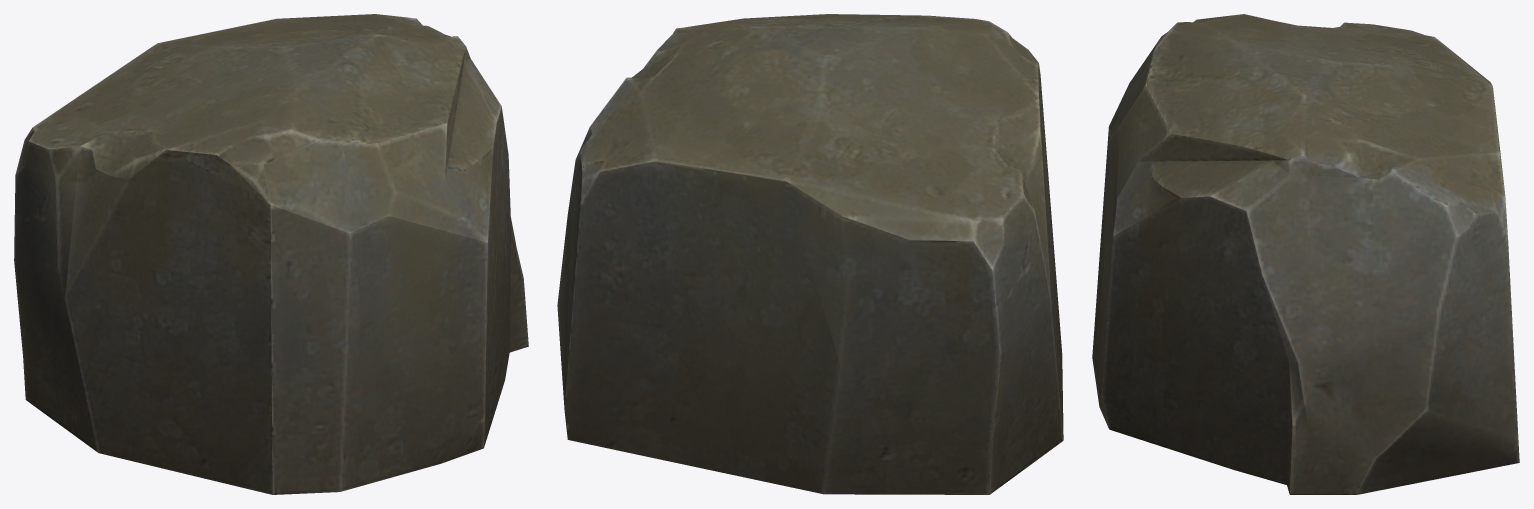
File: riveredge_rock006a.fbx
3 renders of one model, left to right at view 1: azimuth 30°, elevation 25°; view 2: azimuth 150°, elevation 25°; view 3: azimuth 270°, elevation 25°, orthographic. The views are drawn at different scales.
Visible parts, largest first — view 1: riveredge_rock006a; view 2: riveredge_rock006a; view 3: riveredge_rock006a.
Boxes of the visible parts, left/top/right/bottom form: riveredge_rock006a: left=14, top=14, right=528, bottom=494; riveredge_rock006a: left=557, top=14, right=1063, bottom=494; riveredge_rock006a: left=1092, top=14, right=1519, bottom=494.
Bounding box in the file's own units: 233 × 171 × 200.
